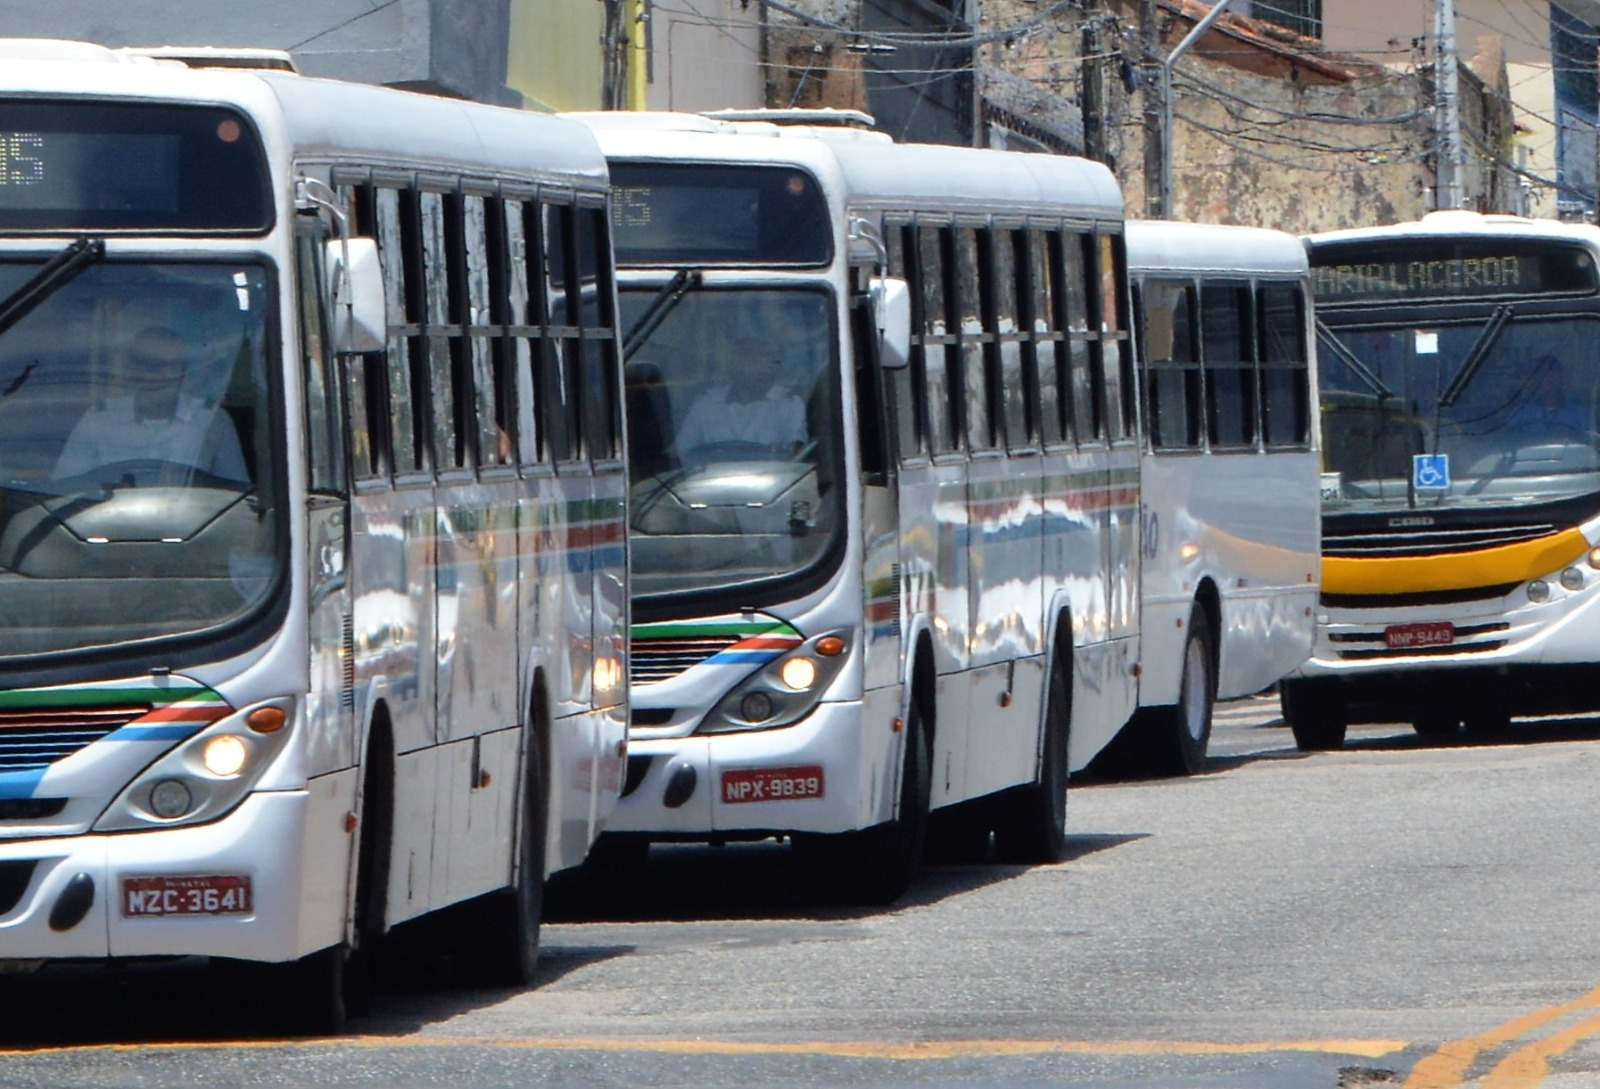bus: (0, 34, 649, 1050), (615, 111, 1152, 896), (1309, 193, 1600, 774)
car_plate: (114, 873, 263, 924), (719, 765, 828, 808), (1386, 622, 1457, 651)
